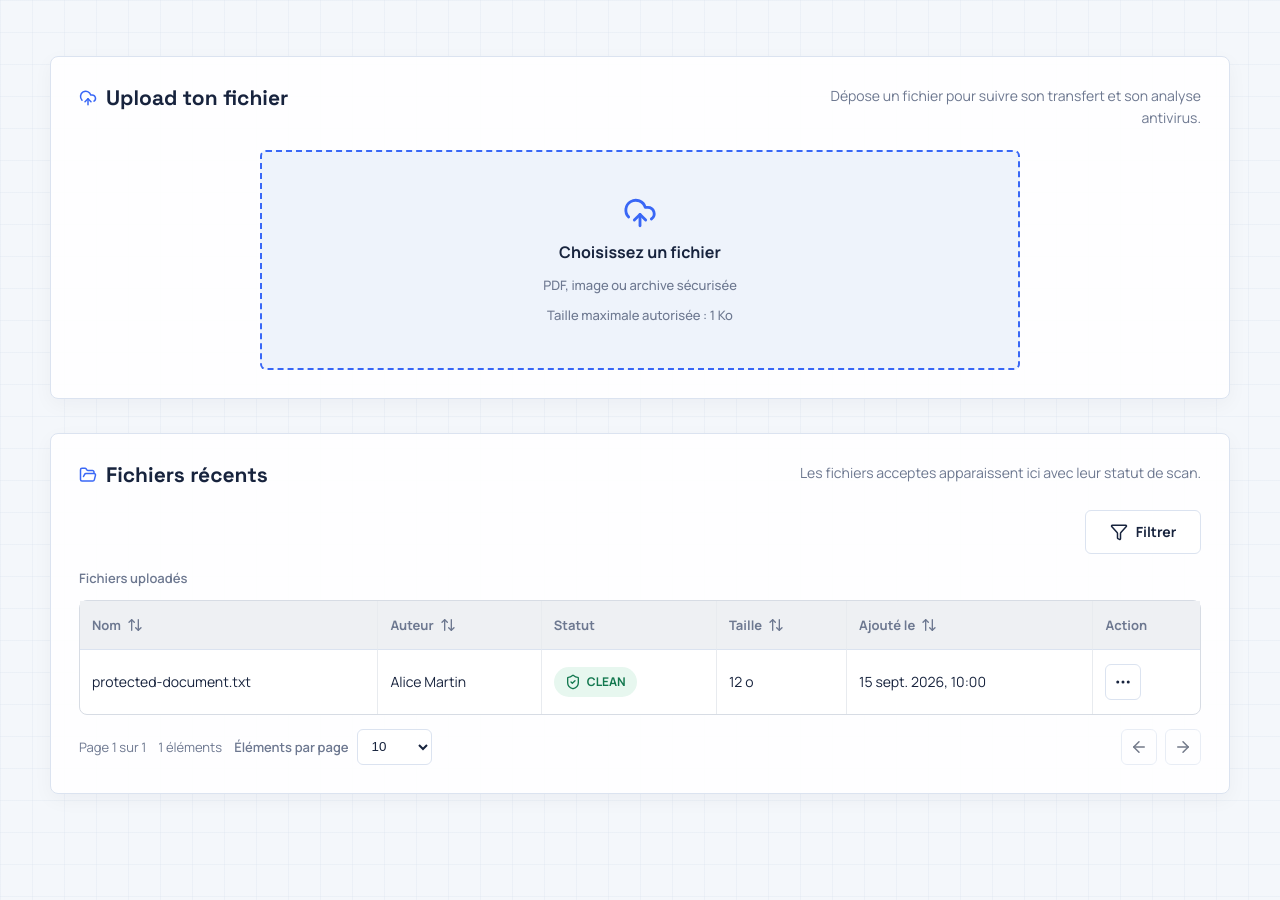
Test case: DashboardPage › does not offer actions when the backend grants no capability
Click the button named "Actions pour protected-document.txt": coordinates (1124, 682) [1106,664,1142,700]
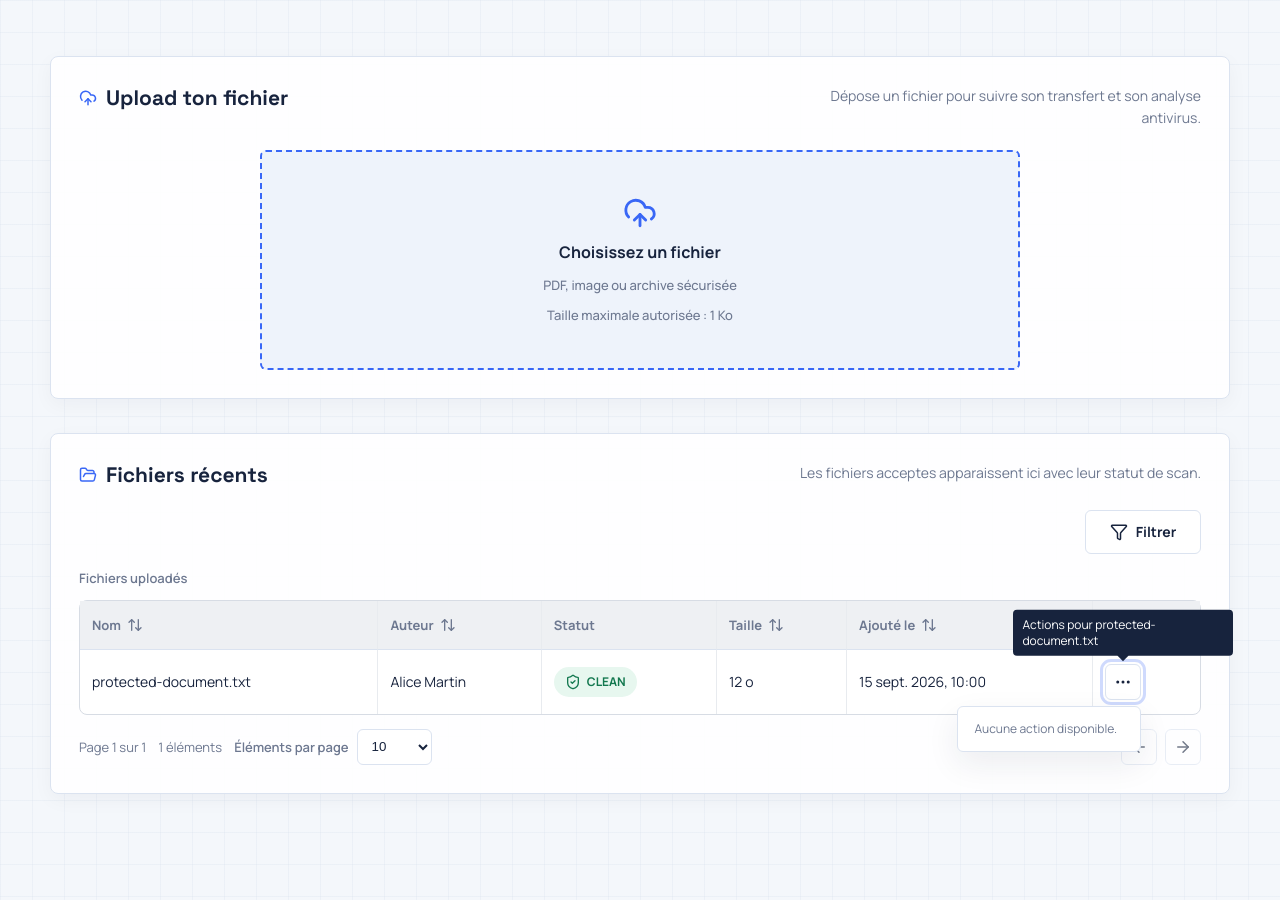
Expected: the text "Aucune action disponible." is shown, [974,720,1117,737]
